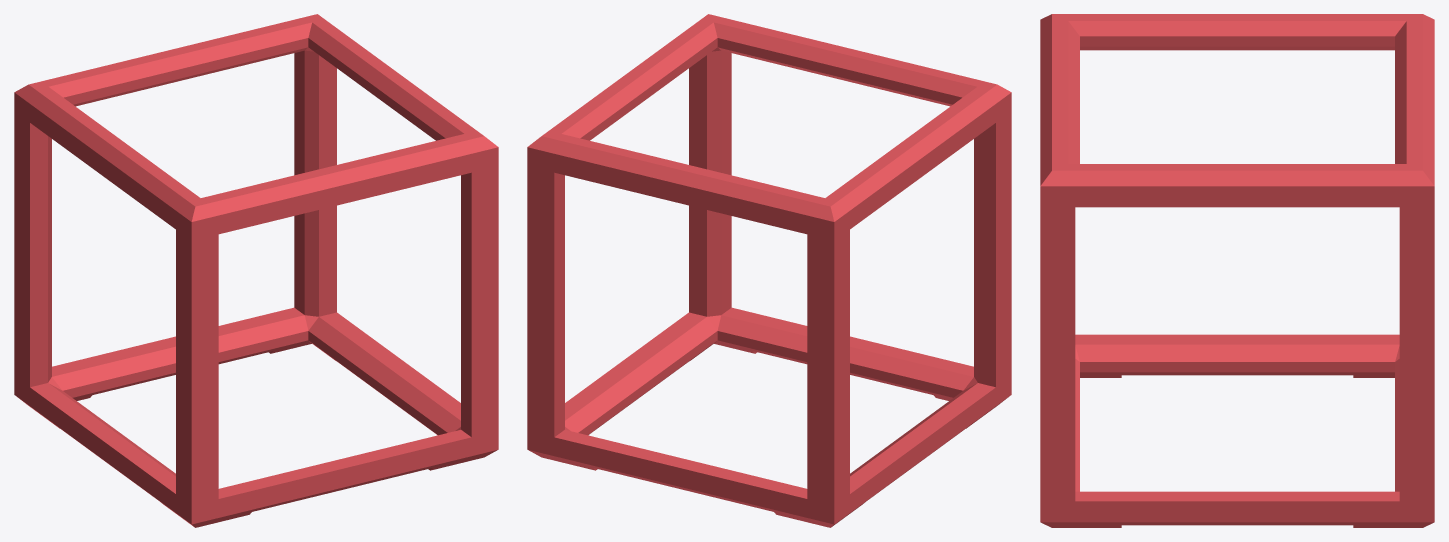
File: Box_Circus.fbx
3 renders of one model, left to right at view 1: azimuth 30°, elevation 25°; view 2: azimuth 150°, elevation 25°; view 3: azimuth 270°, elevation 25°, orthographic. The views are drawn at different scales.
Parts seen in each view (by area): view 1: Box_Circus; view 2: Box_Circus; view 3: Box_Circus.
Boxes of the visible parts, x1,y1,x2,y2 form: Box_Circus: (14, 14, 498, 527); Box_Circus: (527, 14, 1011, 527); Box_Circus: (1040, 14, 1434, 527).
Size of the model in its own units: 340 by 340 by 340.
